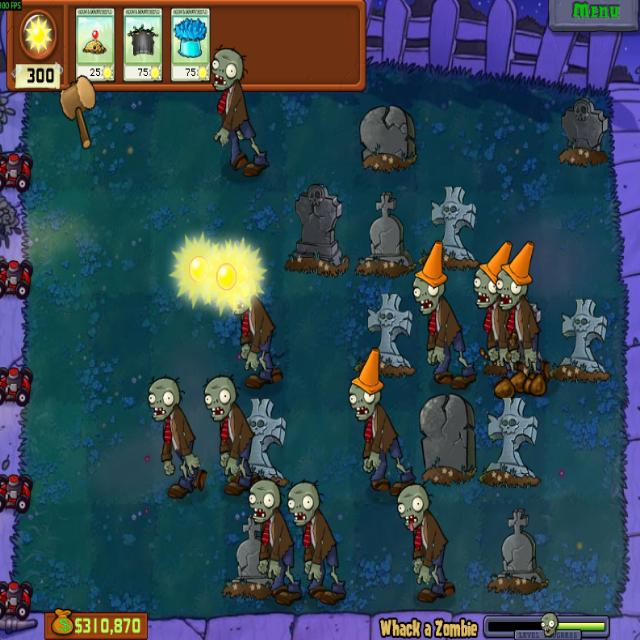conehead: (472, 240, 512, 310), (412, 240, 448, 316), (347, 347, 383, 422), (496, 240, 534, 309)
grave: (282, 182, 349, 276), (413, 394, 479, 484), (486, 508, 549, 595), (353, 190, 413, 278), (481, 397, 539, 487), (552, 298, 612, 382), (423, 185, 479, 270), (234, 396, 286, 484), (358, 102, 417, 174), (365, 293, 415, 375), (223, 518, 273, 596), (556, 96, 610, 164)
gravebuster: (123, 8, 162, 83)
zombie: (394, 484, 430, 532), (146, 376, 182, 423), (203, 374, 237, 422), (248, 479, 281, 525), (211, 47, 245, 90), (287, 481, 319, 525), (230, 276, 258, 314)
